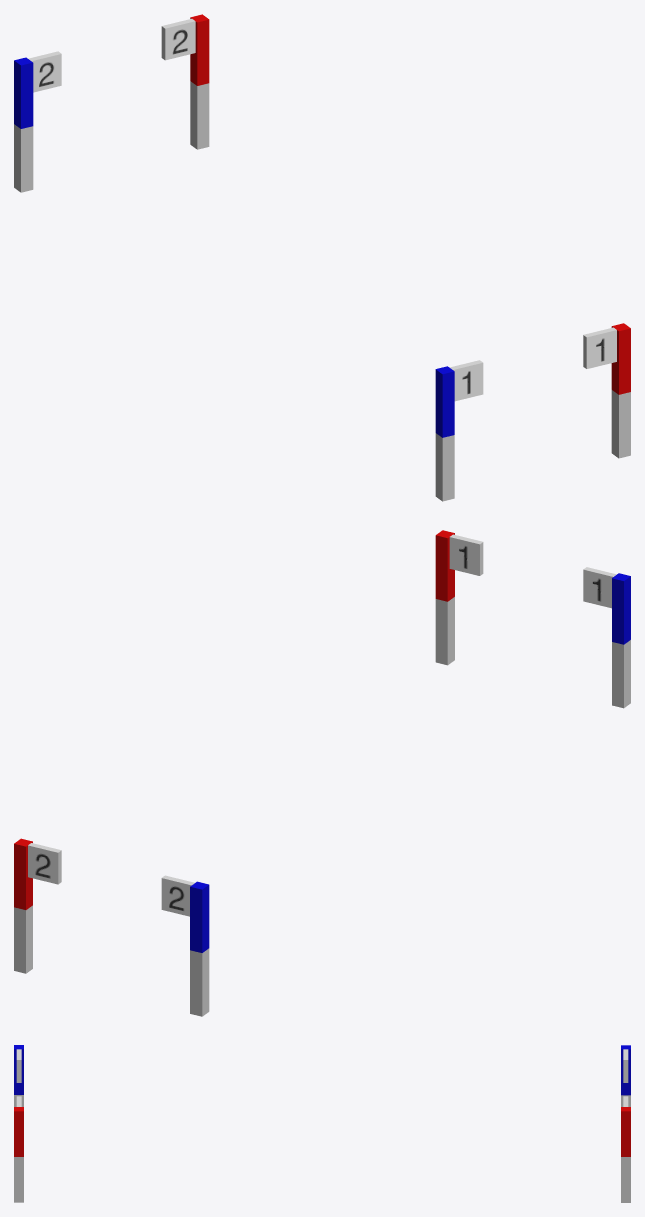
The model's file is R11M_frag.dae.
3 renders of one model, top to bottom at view 1: azimuth 30°, elevation 25°; view 2: azimuth 150°, elevation 25°; view 3: azimuth 270°, elevation 25°, orthographic. The views are drawn at different scales.
Parts seen in each view (by area): view 1: Model, Group4, Group1, Group5, Group2; view 2: Model, Group4, Group1, Group2, Group5; view 3: Group5, Group2, Model, Group4, Group1.
Boxes of the visible parts, <box> form: Model: <box>28,18,616,401</box>; Group4: <box>14,57,33,192</box>; Group1: <box>435,366,454,501</box>; Group5: <box>190,14,209,149</box>; Group2: <box>611,323,630,458</box>; Model: <box>28,534,616,916</box>; Group4: <box>190,881,209,1016</box>; Group1: <box>612,573,630,708</box>; Group2: <box>435,530,454,665</box>; Group5: <box>14,838,32,973</box>; Group5: <box>621,1107,630,1202</box>; Group2: <box>14,1107,23,1202</box>; Model: <box>16,1049,628,1106</box>; Group4: <box>621,1045,630,1106</box>; Group1: <box>14,1045,23,1106</box>.
Size of the model in its own units: 0.3104 by 1.22 by 0.2.
